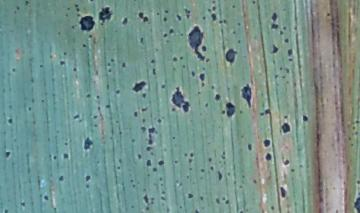tarspot: (186, 23, 208, 64), (169, 83, 193, 118), (239, 79, 254, 111), (77, 15, 97, 34), (222, 46, 241, 65), (97, 5, 114, 26), (222, 99, 238, 119), (130, 77, 148, 94), (134, 9, 151, 25), (80, 134, 95, 151), (146, 121, 156, 145), (279, 120, 293, 136), (351, 192, 360, 213), (215, 168, 226, 185), (278, 184, 288, 201), (262, 150, 274, 164), (117, 15, 132, 26), (60, 150, 72, 163), (258, 106, 271, 118), (269, 42, 280, 56), (262, 136, 273, 150), (142, 191, 151, 208), (284, 46, 296, 58), (212, 92, 224, 104), (56, 56, 68, 68), (244, 140, 255, 153), (184, 190, 197, 201), (155, 157, 167, 168), (197, 70, 207, 83), (55, 173, 68, 183), (5, 113, 14, 127), (299, 113, 310, 124), (41, 193, 52, 204), (174, 12, 185, 23), (149, 65, 159, 77), (103, 100, 112, 113), (135, 152, 146, 162), (282, 156, 291, 168), (170, 53, 179, 65), (167, 25, 176, 37), (144, 156, 152, 169), (271, 11, 279, 24), (119, 59, 129, 69), (83, 172, 94, 181), (209, 12, 218, 23), (3, 149, 12, 158), (187, 150, 197, 158), (133, 108, 139, 121)
